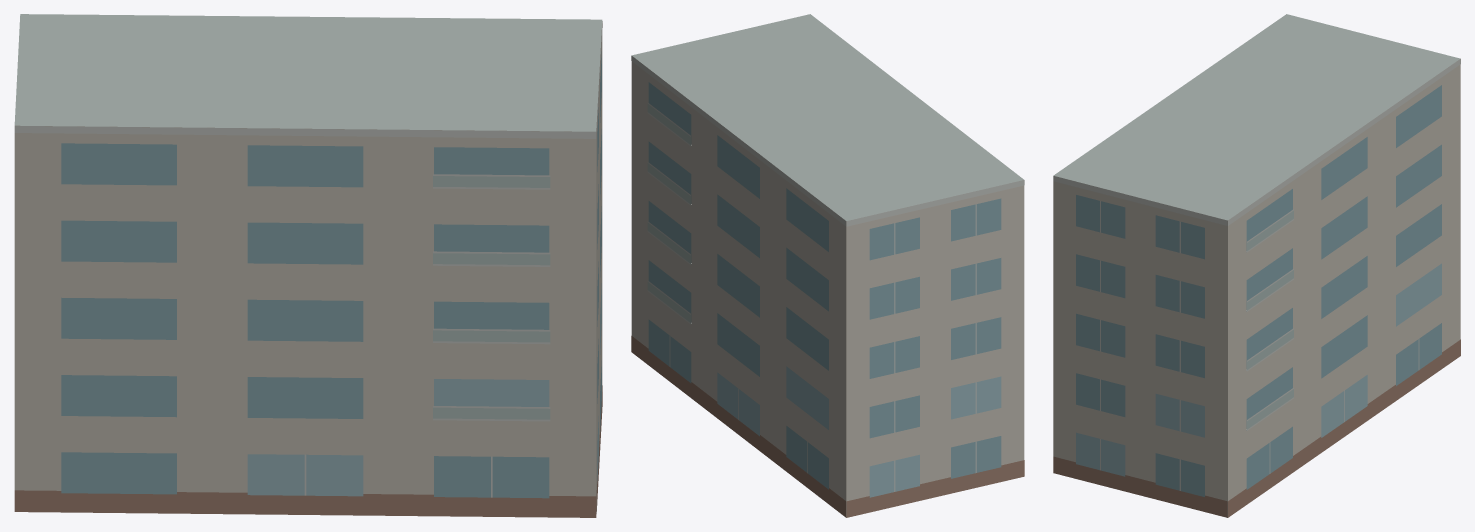
The model's file is survey-upis-32920609.glb.
3 renders of one model, left to right at view 1: azimuth 30°, elevation 25°; view 2: azimuth 150°, elevation 25°; view 3: azimuth 270°, elevation 25°, orthographic. The views are drawn at different scales.
Parts seen in each view (by area): view 1: survey-upis-32920609.tmp; view 2: survey-upis-32920609.tmp; view 3: survey-upis-32920609.tmp.
Boxes of the visible parts, x1,y1,x2,y2 form: survey-upis-32920609.tmp: (14, 14, 602, 517); survey-upis-32920609.tmp: (631, 14, 1024, 517); survey-upis-32920609.tmp: (1053, 14, 1460, 517).
Size of the model in its own units: 19.37 by 13 by 16.15.
